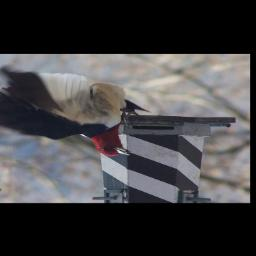Woodpecker: (0, 69, 146, 161)
